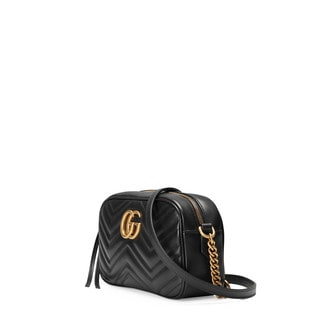Gucci: (90, 184, 251, 302), (116, 203, 141, 241)
